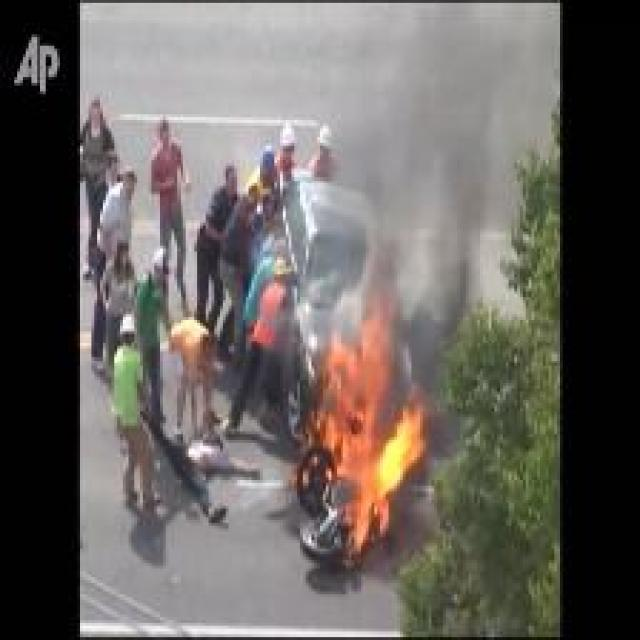Fire: (308, 302, 426, 552)
